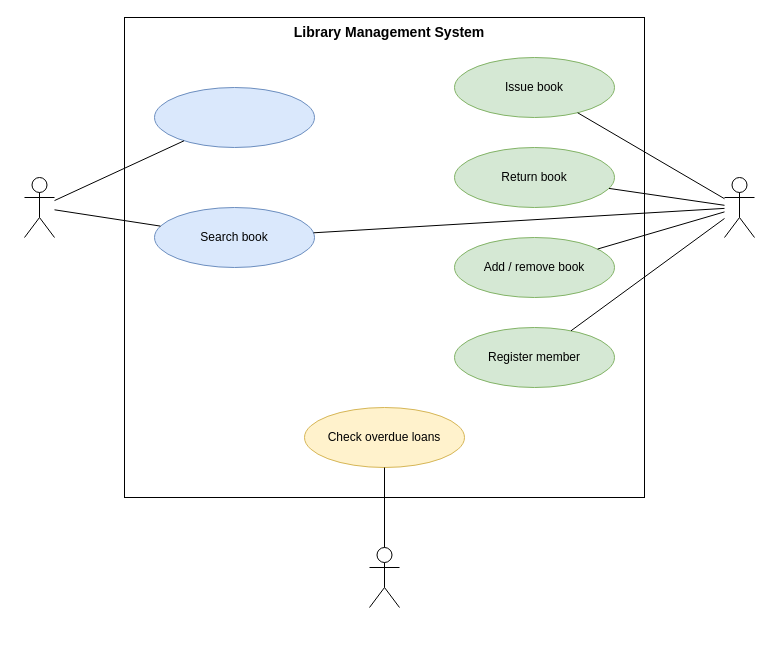
The diagram is 780 pixels wide and 646 high, and some of its shapes have lost their labels. The shapes that lost their labels are listed below. From the top down, each one's box as (x1, y1, x2, y2) in pixels, then its label:
(154, 86, 314, 148): View my loans
(24, 176, 54, 238): Member
(724, 176, 754, 238): Librarian
(368, 546, 400, 608): System Timer
